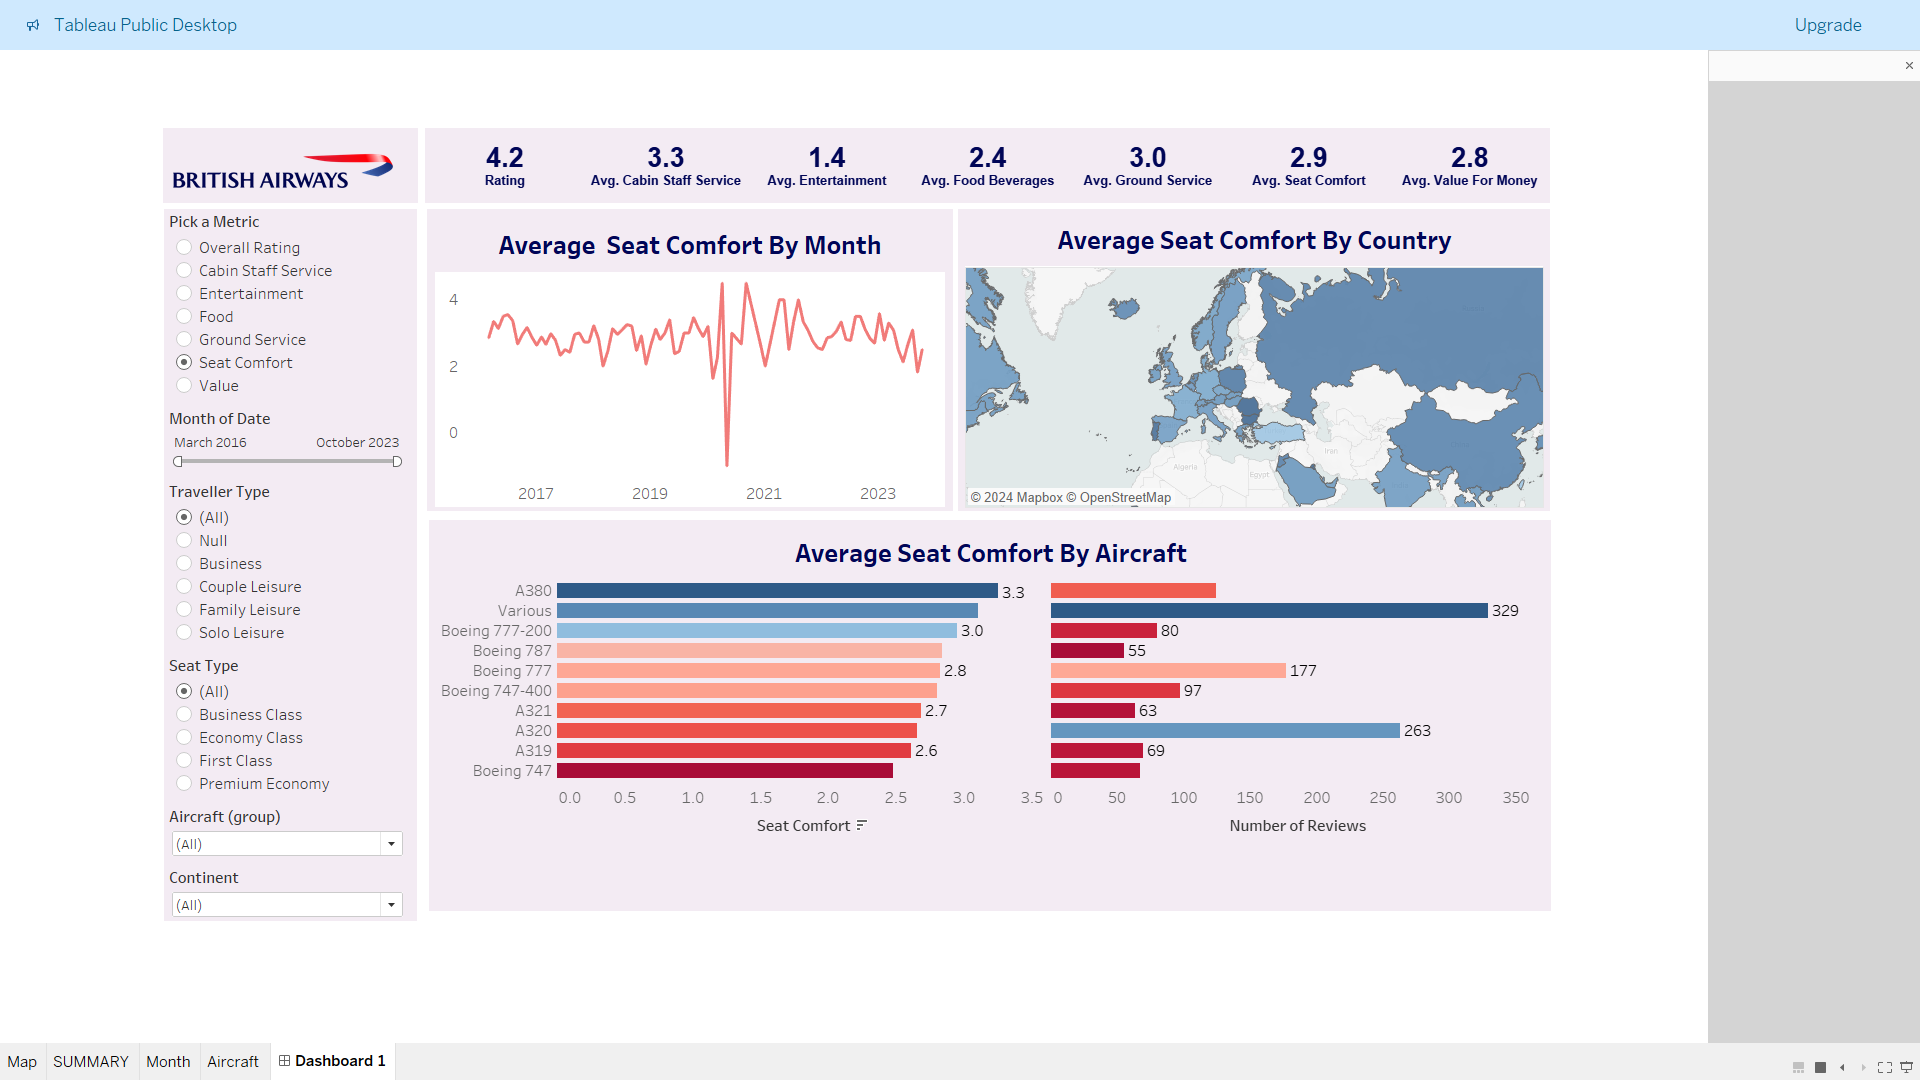

What the dashboard file says about the page in this screenshot:
{"tool":"tableau","page":{"name":"Dashboard 1","canvas":[1400,850],"ordinal":0},"visuals":[{"type":"blank","box":[5,3.2,263,82.9]},{"type":"worksheet","title":"SUMMARY","mark":"Automatic","box":[267,3.2,1133,82.9]},{"type":"image","param":"Image/kisspng-british-airways-salzburg-airport-airline-check-in-5ae44ee41b6136.6","box":[7,8.5,243,80.8]},{"type":"parameter","param":"[Parameters].[Parameter 1]","box":[11,85.7,245,197]},{"type":"blank","box":[10,88,253,712]},{"type":"blank","box":[273,88,526,302]},{"type":"blank","box":[804,88,592,302]},{"type":"worksheet","title":"Map","mark":"Multipolygon","box":[811,97,579,290]},{"type":"worksheet","title":"Month","mark":"Automatic","rows":["Calculation_1228075376476176384"],"cols":["date"],"box":[281,102,510,284]},{"type":"filter","title":"Map","param":"[federated.11w8srq1hapd9a16zyrw60xeq5wv].[tmn:date:qk]","box":[11,282.7,245,73]},{"type":"filter","title":"Map","param":"[federated.11w8srq1hapd9a16zyrw60xeq5wv].[none:traveller_type:nk]","box":[11,355.7,245,174]},{"type":"blank","box":[275,399,1122,391]},{"type":"worksheet","title":"Aircraft","mark":"Automatic","cols":["Calculation_1228075376476176384","ba_reviews.csv_7F308C2C09A4468E8A3DF4DBD58DF157"],"box":[283,410,1108,377]},{"type":"filter","title":"Map","param":"[federated.11w8srq1hapd9a16zyrw60xeq5wv].[none:seat_type:nk]","box":[11,529.7,245,151]},{"type":"filter","title":"Map","param":"[federated.11w8srq1hapd9a16zyrw60xeq5wv].[Aircraft (group)]","box":[11,680.7,245,61]},{"type":"filter","title":"Map","param":"[federated.11w8srq1hapd9a16zyrw60xeq5wv].[none:Continent:nk]","box":[11,741.7,245,61]}]}

Visuals, with their boxes on the page's 1400x850 design canvas (x1, y1, x2, y2). These are canvas units, not pixel positions in the 1920x1080 screenshot, which may show the page scaled, cropped or inside an application window:
blank: box=[5, 3, 268, 86]
"SUMMARY" worksheet: box=[267, 3, 1400, 86]
image: box=[7, 8, 250, 89]
parameter: box=[11, 86, 256, 283]
blank: box=[10, 88, 263, 800]
blank: box=[273, 88, 799, 390]
blank: box=[804, 88, 1396, 390]
"Map" worksheet (Multipolygon marks): box=[811, 97, 1390, 387]
"Month" worksheet: box=[281, 102, 791, 386]
"Map" filter: box=[11, 283, 256, 356]
"Map" filter: box=[11, 356, 256, 530]
blank: box=[275, 399, 1397, 790]
"Aircraft" worksheet: box=[283, 410, 1391, 787]
"Map" filter: box=[11, 530, 256, 681]
"Map" filter: box=[11, 681, 256, 742]
"Map" filter: box=[11, 742, 256, 803]
